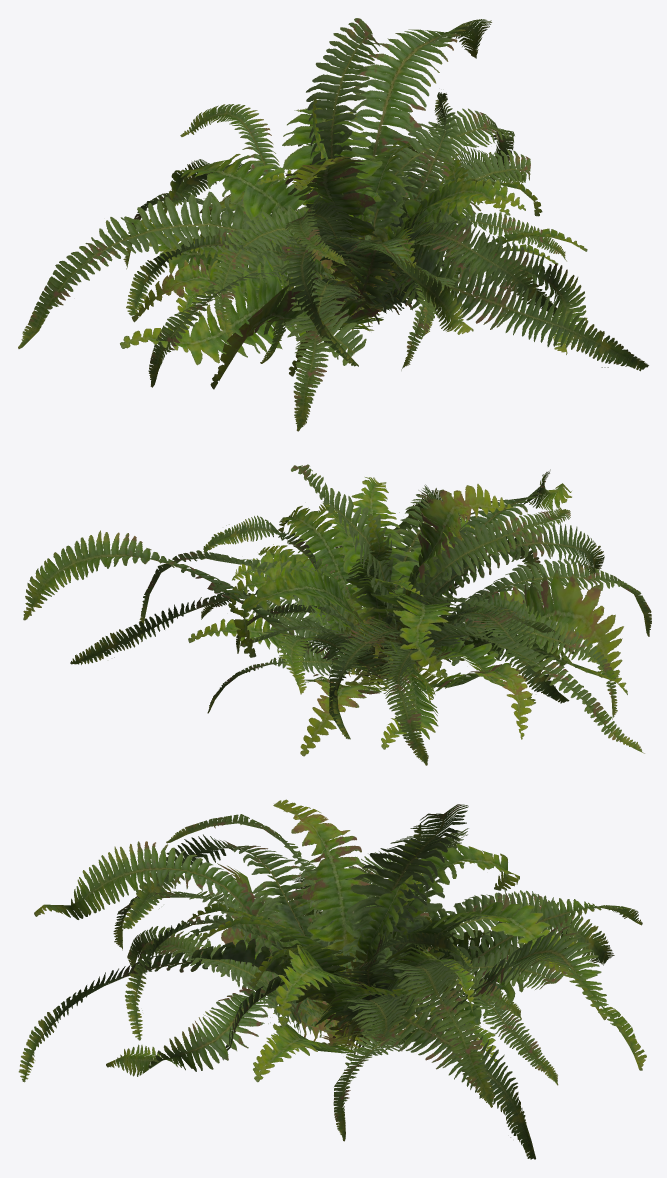
File: fern_02.glb
3 renders of one model, top to bottom at view 1: azimuth 30°, elevation 25°; view 2: azimuth 150°, elevation 25°; view 3: azimuth 270°, elevation 25°, orthographic. The views are drawn at different scales.
Visible parts, largest first — view 1: fern_02_b, fern_02_c, fern_02_d, fern_02_a; view 2: fern_02_b, fern_02_c, fern_02_d, fern_02_a; view 3: fern_02_b, fern_02_c, fern_02_a, fern_02_d.
Boxes of the visible parts, left/top/right/bottom form: fern_02_b: left=18, top=18, right=648, bottom=431; fern_02_c: left=120, top=96, right=587, bottom=376; fern_02_d: left=141, top=143, right=558, bottom=363; fern_02_a: left=176, top=92, right=544, bottom=337; fern_02_b: left=23, top=464, right=651, bottom=756; fern_02_c: left=70, top=484, right=627, bottom=765; fern_02_d: left=232, top=516, right=589, bottom=749; fern_02_a: left=203, top=515, right=535, bottom=712; fern_02_b: left=18, top=799, right=646, bottom=1141; fern_02_c: left=106, top=814, right=642, bottom=1159; fern_02_a: left=139, top=873, right=564, bottom=1085; fern_02_d: left=187, top=868, right=591, bottom=1070.
Size of the model in its own units: 0.9897 by 0.4277 by 0.8937.
1 material, 1 textured.
